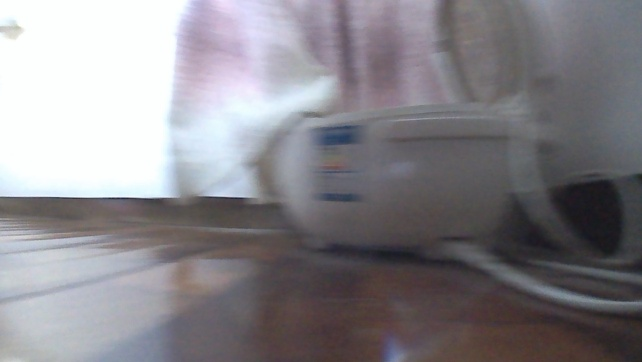wire: (502, 259, 641, 314)
